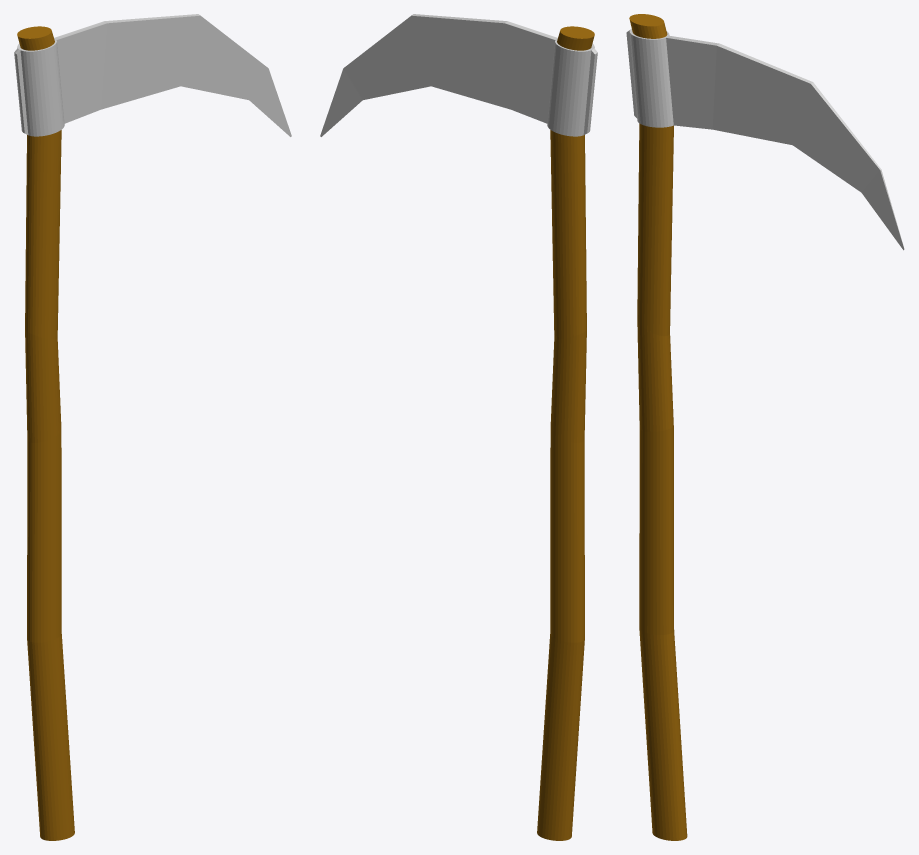
The model's file is scythe.fbx.
3 views of the same model, side by side, from view 1: azimuth 30°, elevation 25°; view 2: azimuth 150°, elevation 25°; view 3: azimuth 330°, elevation 25° (orthographic).
Parts seen in each view (by area): view 1: Cylinder; view 2: Cylinder; view 3: Cylinder.
Boxes of the visible parts, bbox=[...] form: Cylinder: bbox=[14, 14, 291, 840]; Cylinder: bbox=[320, 14, 597, 840]; Cylinder: bbox=[626, 14, 904, 840].
Bounding box in the file's own units: 114 × 318 × 10.68.
